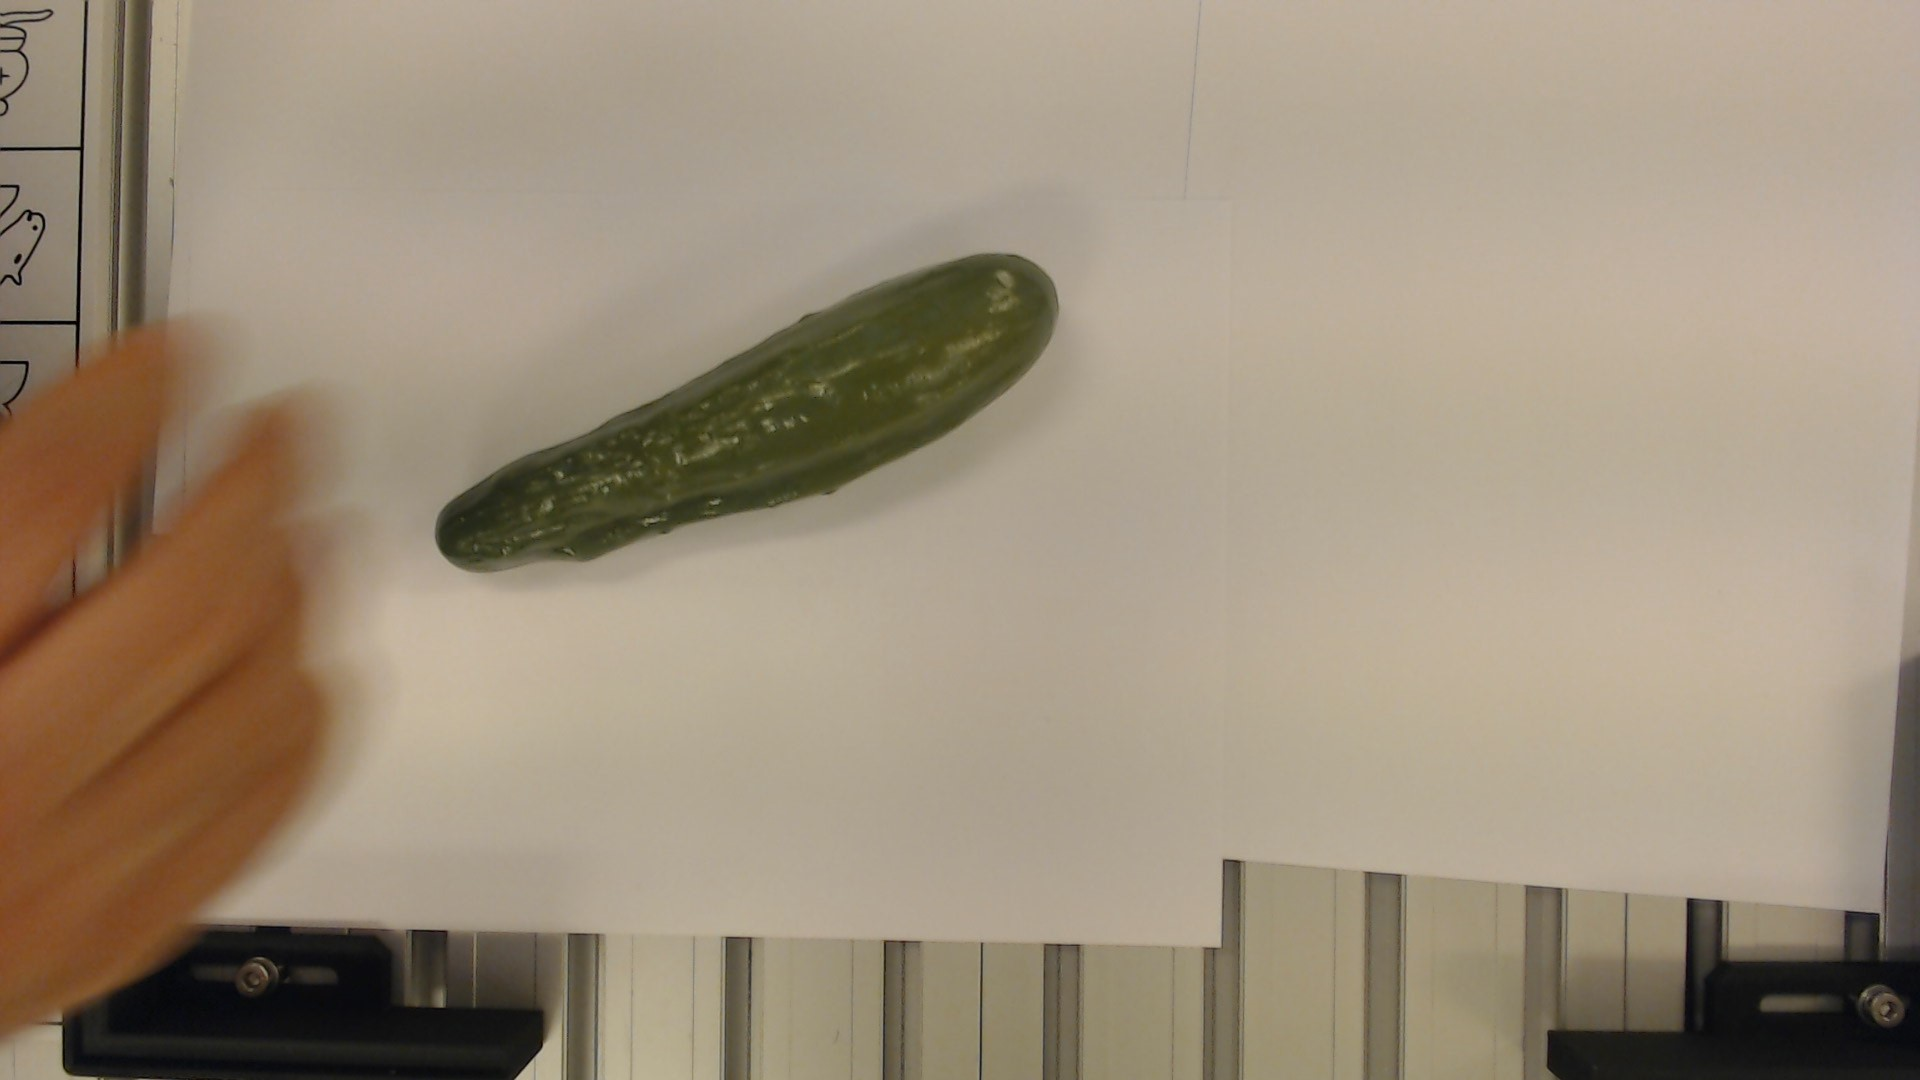Cucumber: (433, 245, 1074, 585)
